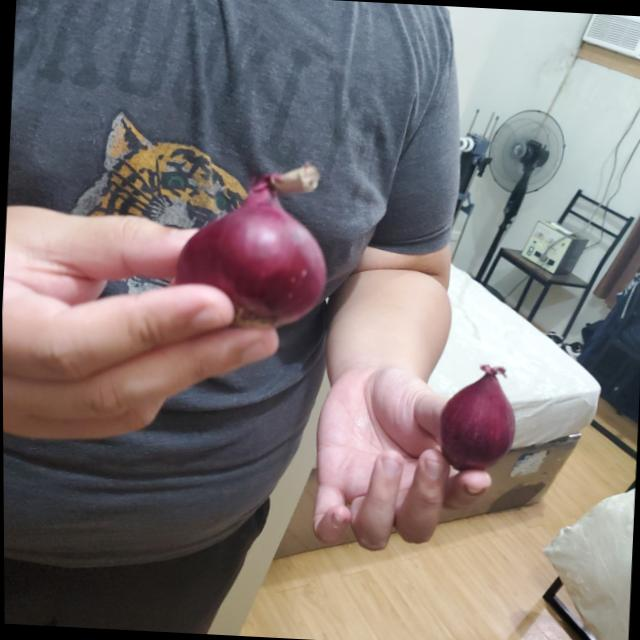onion: (176, 161, 333, 318), (436, 358, 518, 469)
